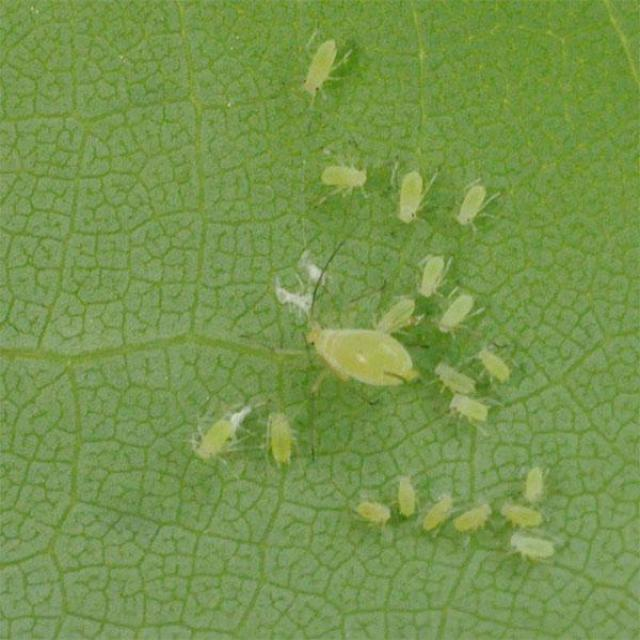Aphid-Grown-: (293, 303, 421, 404), (376, 153, 448, 231), (292, 25, 353, 116), (304, 147, 384, 215), (256, 401, 316, 478), (184, 403, 248, 475), (443, 176, 507, 240), (442, 385, 516, 439), (427, 280, 488, 344), (504, 519, 572, 574), (401, 242, 461, 302), (491, 492, 562, 542), (472, 341, 530, 393), (428, 354, 488, 404), (369, 290, 420, 343), (412, 492, 463, 542), (346, 486, 396, 536), (449, 495, 500, 539), (516, 456, 553, 510), (386, 469, 426, 517)
